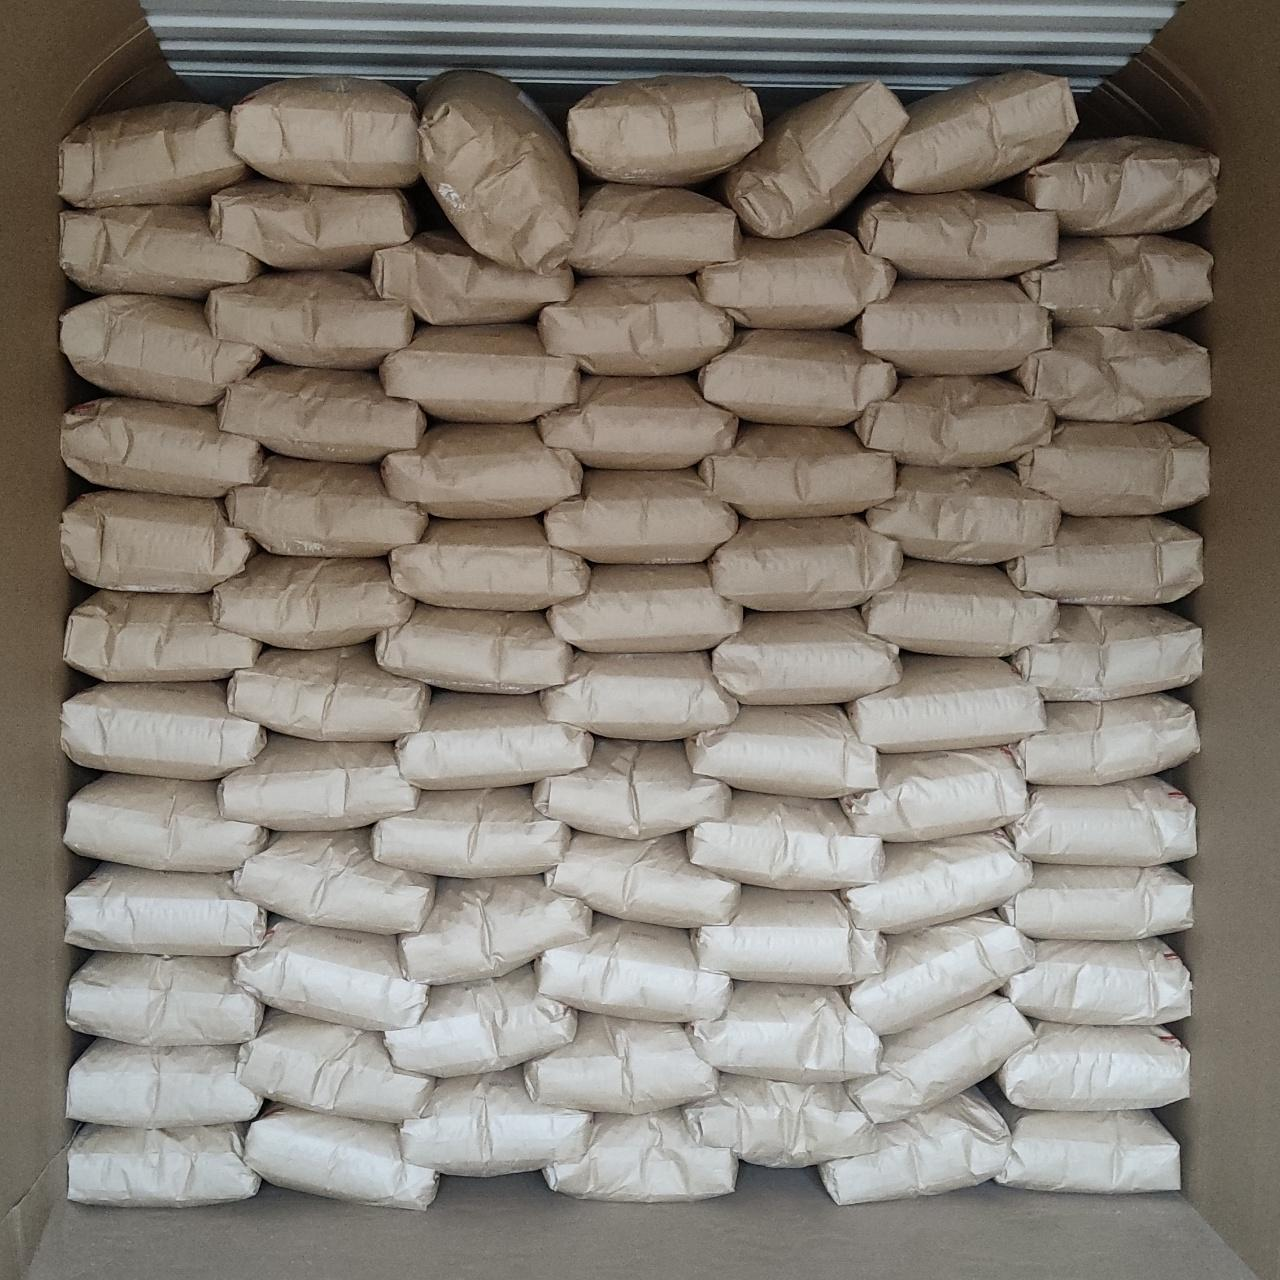sack: (419, 71, 578, 274), (724, 81, 908, 237), (844, 995, 1035, 1122), (883, 70, 1077, 193), (850, 911, 1034, 1035), (237, 1010, 434, 1123), (819, 1089, 1010, 1204), (62, 295, 261, 405), (234, 916, 426, 1030), (568, 75, 763, 185), (385, 965, 576, 1077), (233, 829, 435, 934), (400, 1067, 592, 1176), (401, 875, 592, 983), (230, 78, 419, 187), (538, 915, 729, 1022), (62, 397, 265, 497), (206, 271, 414, 368), (61, 490, 258, 592), (1012, 136, 1219, 233), (225, 456, 427, 555), (61, 681, 265, 779), (60, 102, 250, 207), (218, 365, 425, 461), (696, 229, 896, 328), (210, 552, 414, 649), (245, 1106, 436, 1209), (687, 981, 881, 1082), (533, 740, 730, 839), (227, 644, 429, 740), (525, 1013, 717, 1114), (842, 831, 1032, 933), (537, 277, 734, 375), (687, 791, 882, 890), (64, 774, 265, 870), (217, 734, 418, 830), (371, 230, 574, 325), (867, 465, 1061, 564), (379, 325, 579, 421), (848, 656, 1045, 753), (396, 692, 592, 789), (698, 423, 896, 519), (381, 424, 583, 518), (698, 330, 897, 425), (841, 191, 1058, 278), (692, 886, 884, 984), (855, 279, 1051, 375), (861, 561, 1058, 656), (65, 863, 266, 956), (61, 206, 264, 298), (1014, 327, 1210, 422), (538, 376, 738, 469), (209, 179, 415, 269), (66, 952, 263, 1046), (543, 833, 739, 927), (63, 589, 261, 682), (388, 517, 588, 609), (1017, 235, 1212, 329), (710, 515, 902, 610), (544, 469, 738, 563), (681, 1075, 878, 1167), (372, 786, 571, 877), (855, 376, 1054, 467), (712, 608, 900, 704), (1009, 606, 1201, 700), (543, 1109, 737, 1202), (376, 603, 573, 694), (1002, 516, 1203, 604), (842, 747, 1028, 842), (1015, 422, 1207, 514), (686, 706, 879, 797), (540, 652, 737, 740), (547, 564, 743, 652), (67, 1040, 262, 1128), (997, 1022, 1189, 1110), (1007, 777, 1195, 866), (1017, 694, 1199, 785), (1001, 938, 1190, 1024), (67, 1124, 260, 1207), (996, 1107, 1180, 1193), (568, 184, 741, 274), (1000, 863, 1192, 940)
